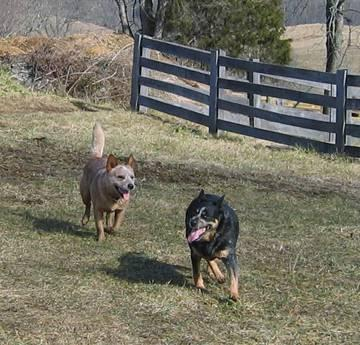dog: (80, 123, 134, 239), (186, 190, 238, 299)
